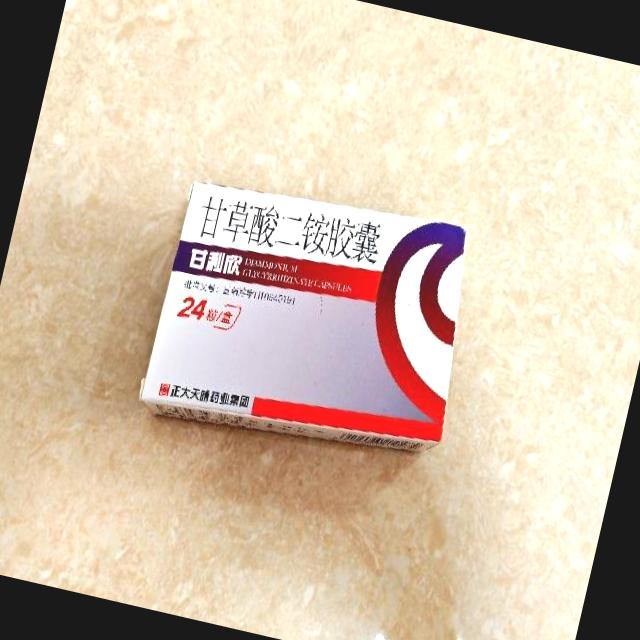box: (135, 164, 490, 481)
